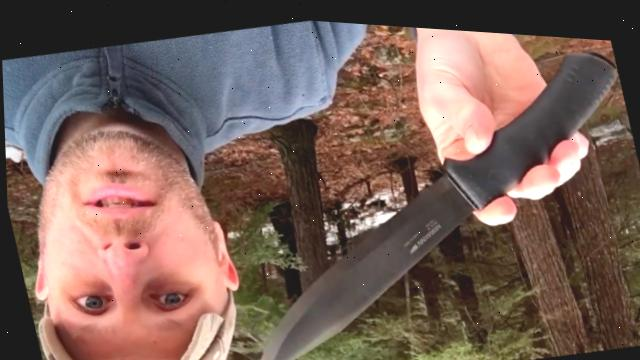pocket-knife: (191, 76, 571, 360)
